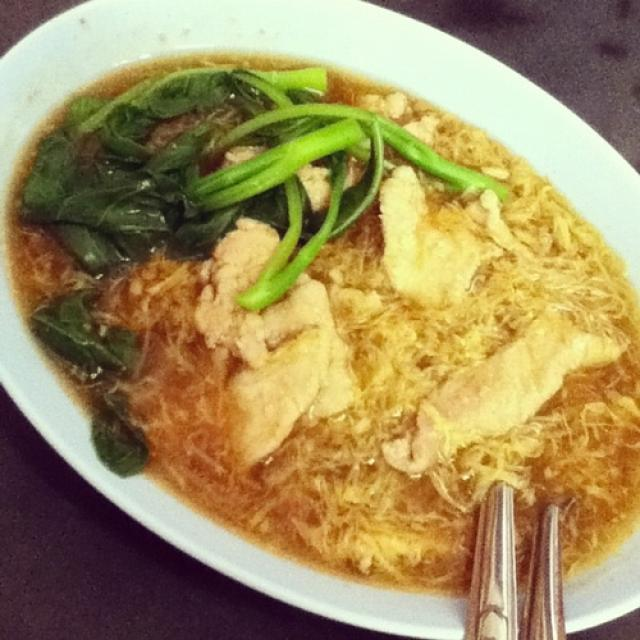面条主食: (36, 28, 613, 589)
